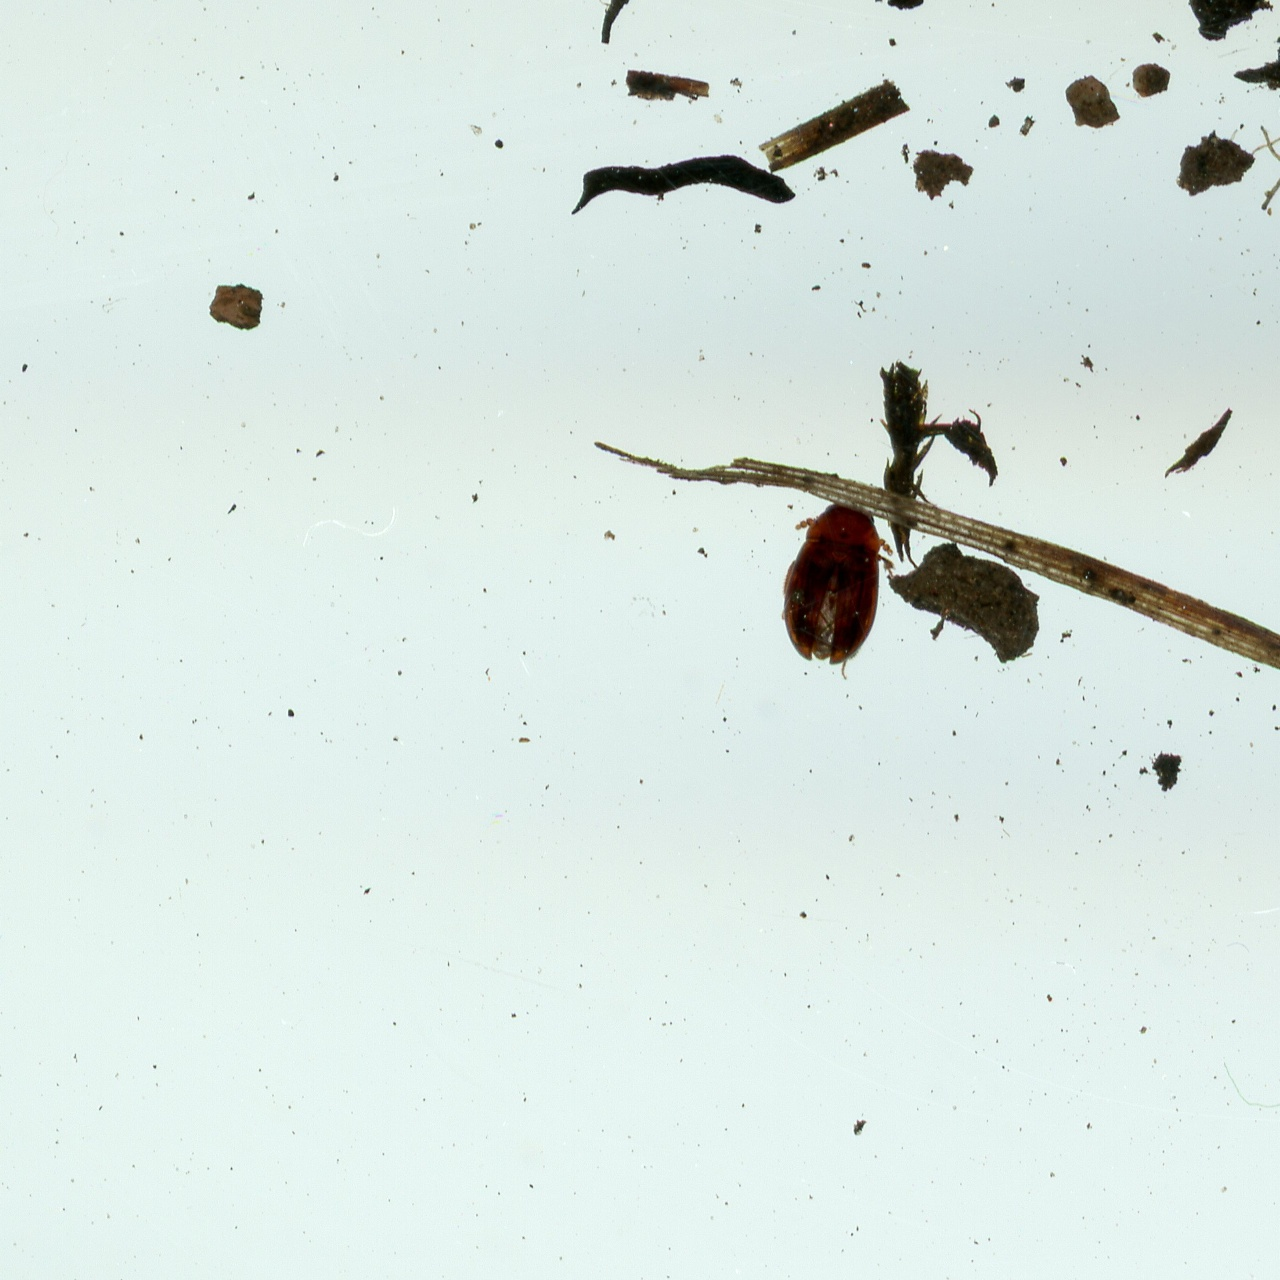arthropod: (755, 489, 914, 690)
